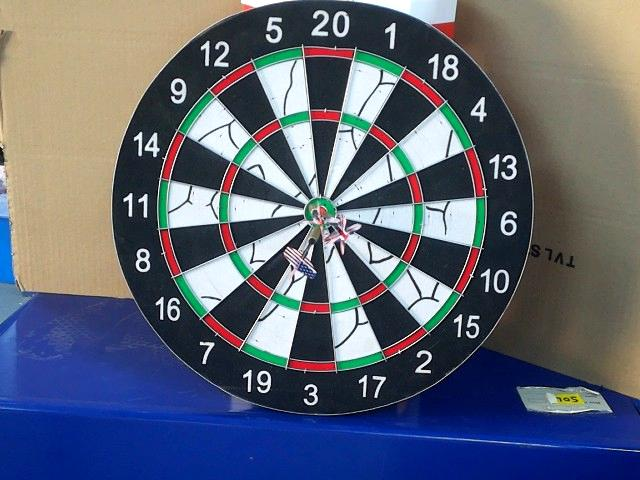bullseye: (307, 200, 342, 234)
